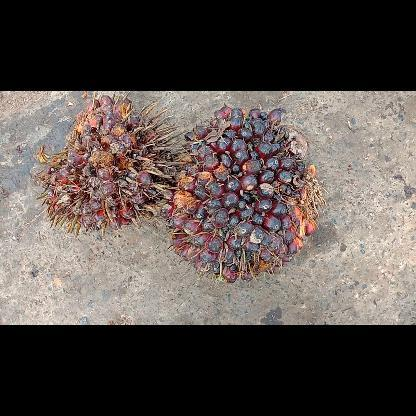Kurang masak: (160, 103, 324, 285)
TBS masak: (35, 91, 185, 237)
